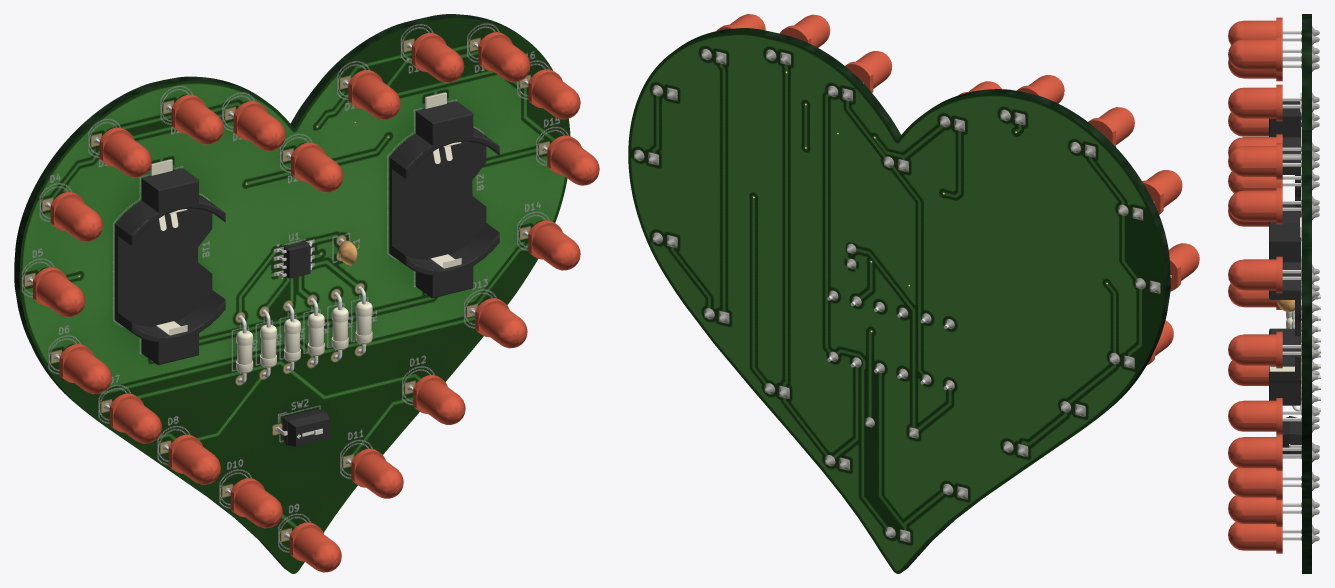
File: heartpcb.glb
3 renders of one model, left to right at view 1: azimuth 30°, elevation 25°; view 2: azimuth 150°, elevation 25°; view 3: azimuth 270°, elevation 25°, orthographic. The views are drawn at different scales.
Parts seen in each view (by area): view 1: PCB_heartpcb3d, BatteryHolder_Keystone_1058_1x2032.001, BatteryHolder_Keystone_1058_1x2032, LED_D5.0mm.002, LED_D5.0mm.004, LED_D5.0mm.009, LED_D5.0mm.003, LED_D5.0mm.008, LED_D5.0mm.018, LED_D5.0mm.005, LED_D5.0mm.017, LED_D5.0mm.001 (+19 smaller); view 2: PCB_heartpcb3d, LED_D5.0mm.007, LED_D5.0mm.002, LED_D5.0mm.001, LED_D5.0mm.010, LED_D5.0mm.006, LED_D5.0mm.004; view 3: PCB_heartpcb3d, BatteryHolder_Keystone_1058_1x2032.001, BatteryHolder_Keystone_1058_1x2032, LED_D5.0mm.011, LED_D5.0mm, LED_D5.0mm.008, LED_D5.0mm.013, LED_D5.0mm.004, LED_D5.0mm.017, LED_D5.0mm.015, LED_D5.0mm.006, LED_D5.0mm.019 (+12 smaller).
Part boxes in pixels (left/top/right/bottom): PCB_heartpcb3d: left=14, top=14, right=570, bottom=573; BatteryHolder_Keystone_1058_1x2032.001: left=389, top=93, right=499, bottom=298; BatteryHolder_Keystone_1058_1x2032: left=115, top=159, right=225, bottom=364; LED_D5.0mm.002: left=95, top=127, right=151, bottom=177; LED_D5.0mm.004: left=167, top=94, right=223, bottom=144; LED_D5.0mm.009: left=285, top=522, right=341, bottom=572; LED_D5.0mm.003: left=164, top=434, right=220, bottom=484; LED_D5.0mm.008: left=543, top=135, right=599, bottom=185; LED_D5.0mm.018: left=226, top=478, right=282, bottom=528; LED_D5.0mm.005: left=105, top=393, right=161, bottom=443; LED_D5.0mm.017: left=524, top=220, right=580, bottom=270; LED_D5.0mm.001: left=47, top=192, right=102, bottom=241; PCB_heartpcb3d: left=628, top=28, right=1170, bottom=573; LED_D5.0mm.007: left=845, top=51, right=892, bottom=92; LED_D5.0mm.002: left=1088, top=107, right=1134, bottom=146; LED_D5.0mm.001: left=1142, top=170, right=1182, bottom=214; LED_D5.0mm.010: left=1168, top=243, right=1199, bottom=291; LED_D5.0mm.006: left=779, top=14, right=830, bottom=47; LED_D5.0mm.004: left=1016, top=75, right=1064, bottom=103; PCB_heartpcb3d: left=1302, top=14, right=1311, bottom=573; BatteryHolder_Keystone_1058_1x2032.001: left=1269, top=217, right=1301, bottom=410; BatteryHolder_Keystone_1058_1x2032: left=1269, top=92, right=1301, bottom=223; LED_D5.0mm.011: left=1228, top=84, right=1301, bottom=121; LED_D5.0mm: left=1228, top=256, right=1301, bottom=293; LED_D5.0mm.008: left=1228, top=331, right=1301, bottom=368; LED_D5.0mm.013: left=1228, top=187, right=1301, bottom=224; LED_D5.0mm.004: left=1228, top=36, right=1301, bottom=72; LED_D5.0mm.017: left=1228, top=398, right=1301, bottom=434; LED_D5.0mm.015: left=1228, top=434, right=1301, bottom=470; LED_D5.0mm.006: left=1228, top=143, right=1301, bottom=179; LED_D5.0mm.019: left=1228, top=467, right=1301, bottom=500.
Bounding box in the file's own units: 10.42 × 9.41 × 1.63.
Materials: 16 (2 with a texture image).
